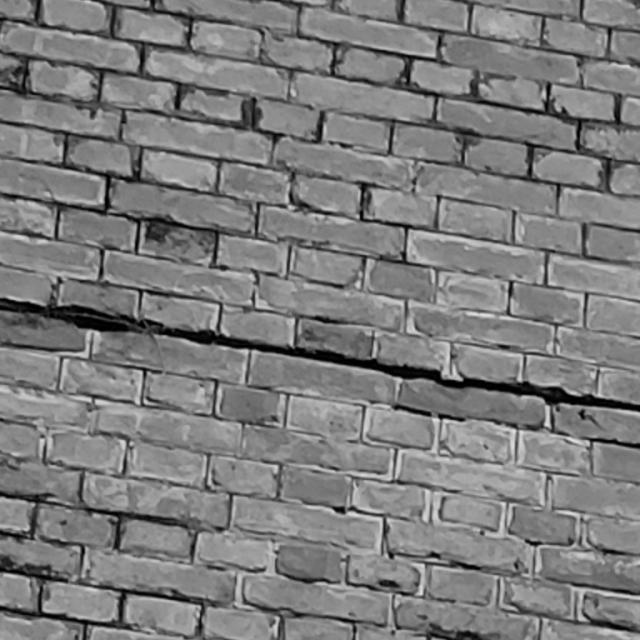crack: (1, 298, 640, 414)
